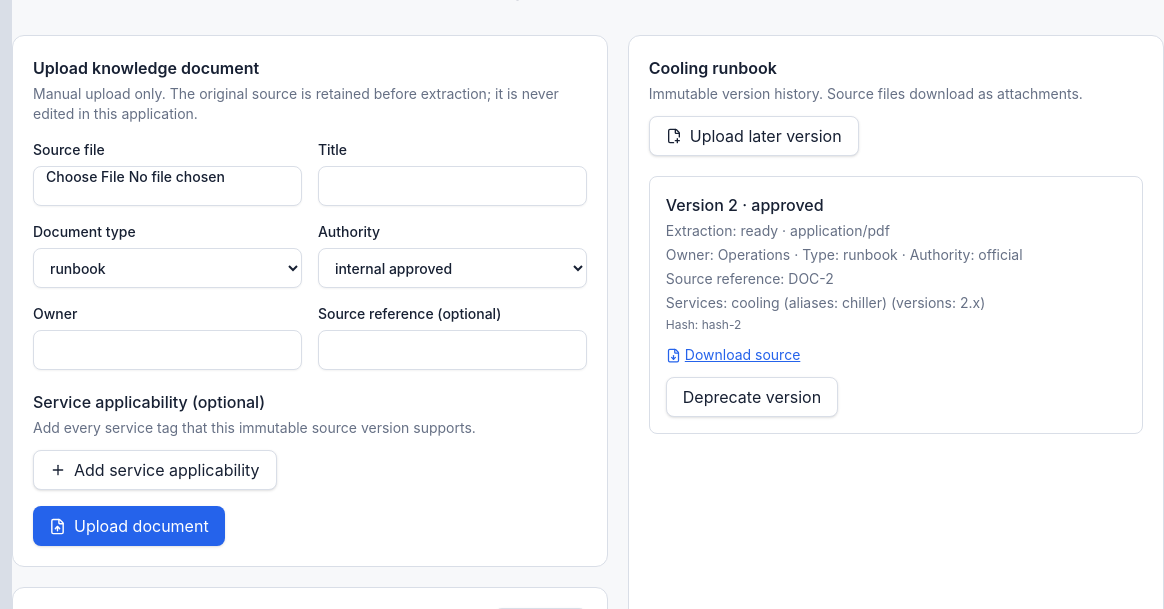
Scenario: KnowledgePage › shows a safe error when a confirmed lifecycle action fails
Click the button "Deprecate version" at point(752, 397), box [666,377,838,417]
(page scrolled)
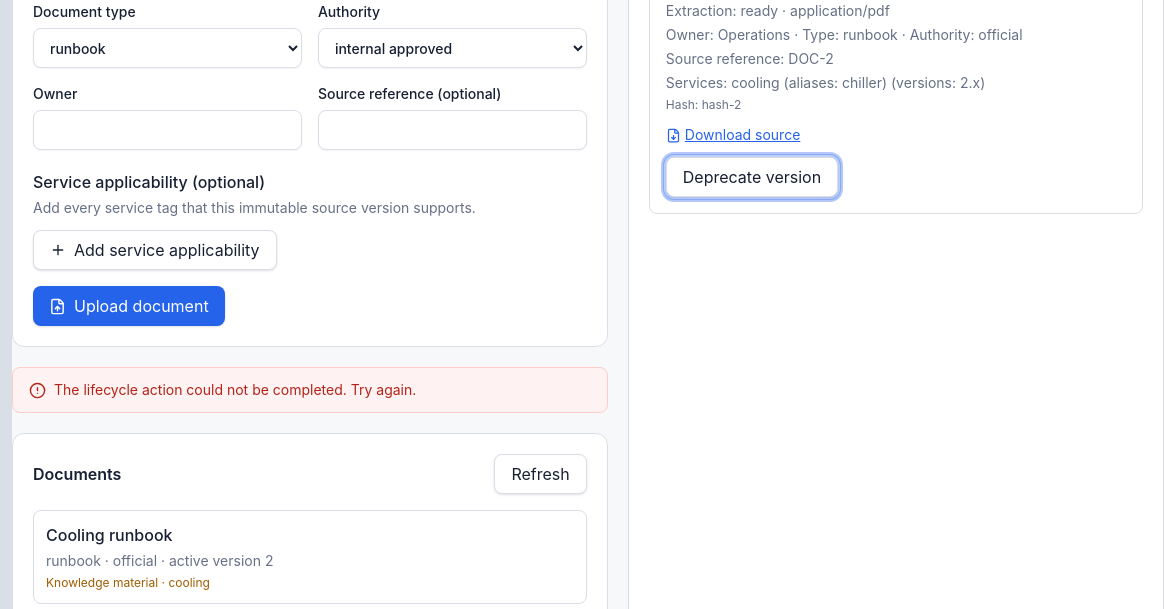
Expected: the message reads "The lifecycle action could not be completed. Try again.", [54,381,416,398]
